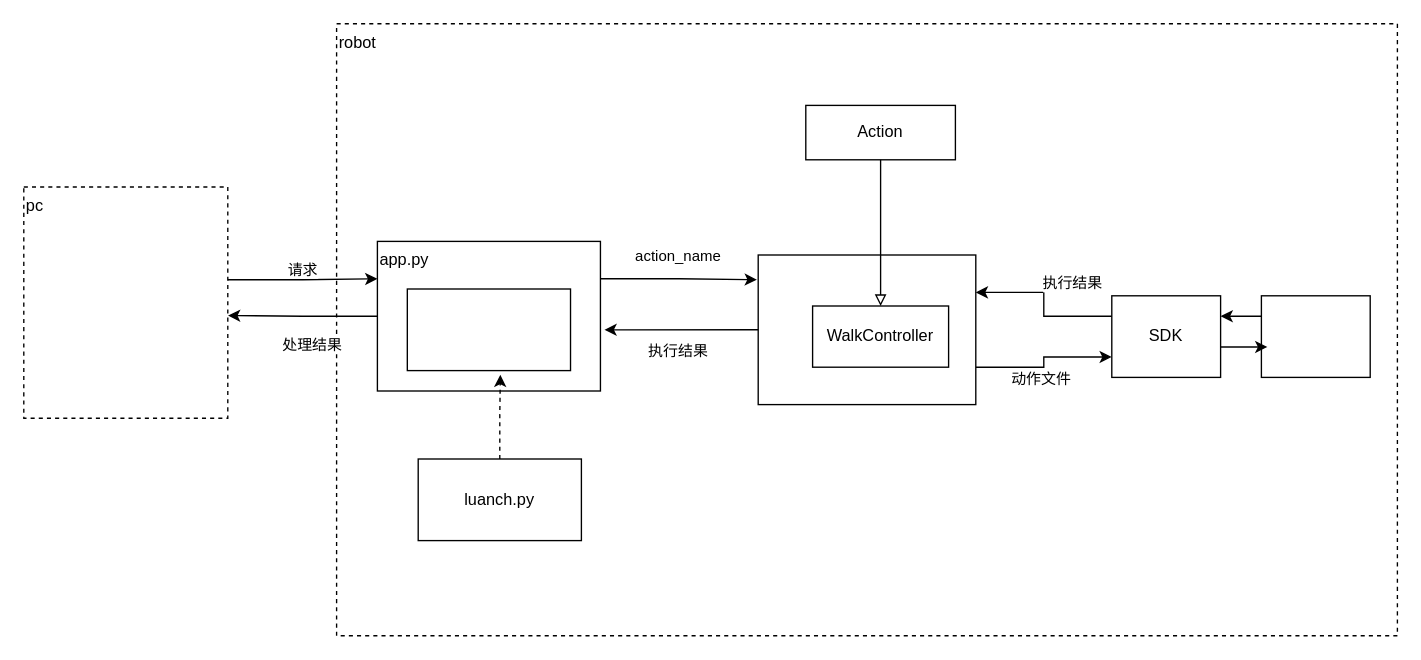
Some shapes in this 1421 by 660 pixel diagram are drawn without their labels. The box of each missing label's shape, as (x1, y1, x2, y2) in pixels:
RobotManager: (757, 254, 976, 405)
route_robot.py: (406, 288, 571, 371)
舵机: (1260, 294, 1370, 377)
